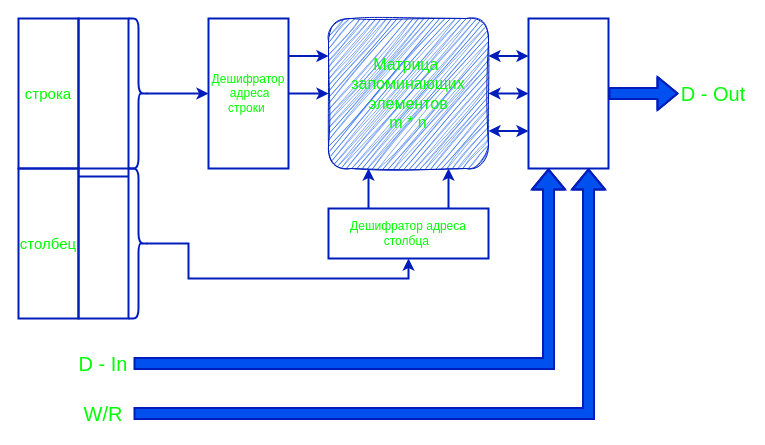
This 765x445 diagram has some shape labels left out. Here are the shapes that lost their labels. From the top down, the centre of each, then its label:
At point 568,93: "Усилители записи/считывания".
At point 103,168: "р е г и с т р а д р е с а".
